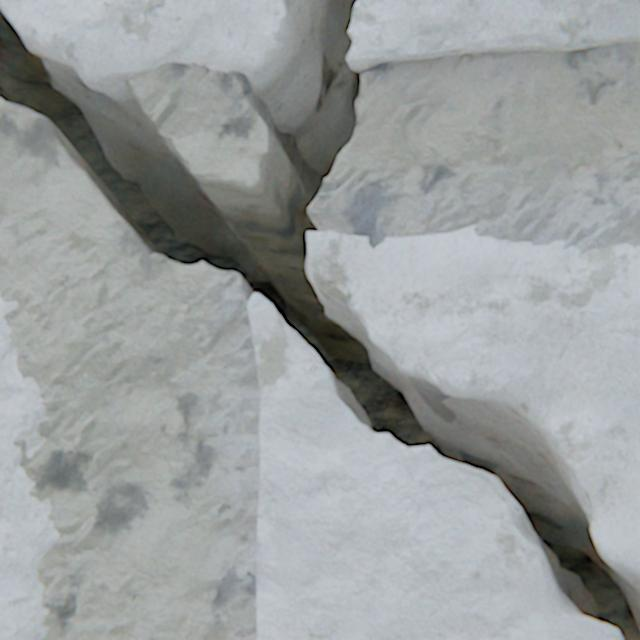brick: (0, 293, 61, 639)
broken_brick: (248, 294, 618, 639), (307, 226, 639, 573), (0, 0, 285, 87), (346, 0, 639, 70)
crack: (0, 0, 639, 639), (162, 64, 177, 76)
